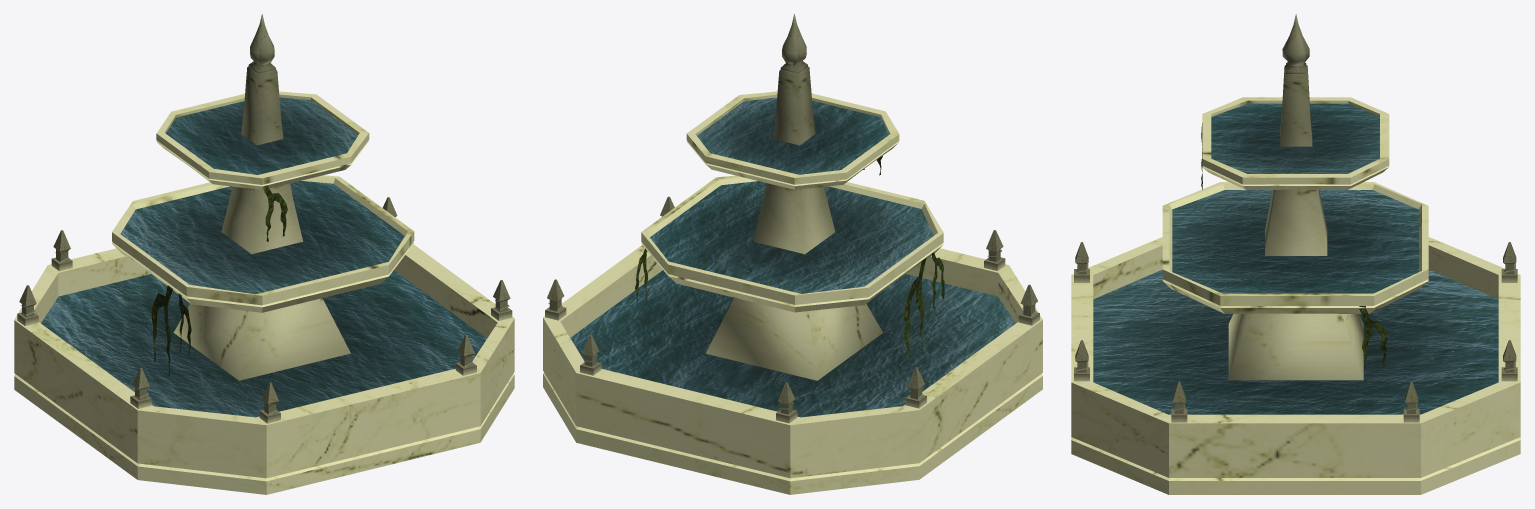
The model's file is prop_fountain.fbx.
3 views of the same model, side by side, from view 1: azimuth 30°, elevation 25°; view 2: azimuth 150°, elevation 25°; view 3: azimuth 270°, elevation 25° (orthographic). The views are drawn at different scales.
Parts seen in each view (by area): view 1: prop_fountain; view 2: prop_fountain; view 3: prop_fountain.
Part boxes in pixels (bbox=[...]): prop_fountain: bbox=[14, 14, 514, 494]; prop_fountain: bbox=[543, 14, 1042, 494]; prop_fountain: bbox=[1071, 14, 1520, 494].
Bounding box in the file's own units: 2614 × 2485 × 2627.
Materials: 2 (2 with a texture image).
